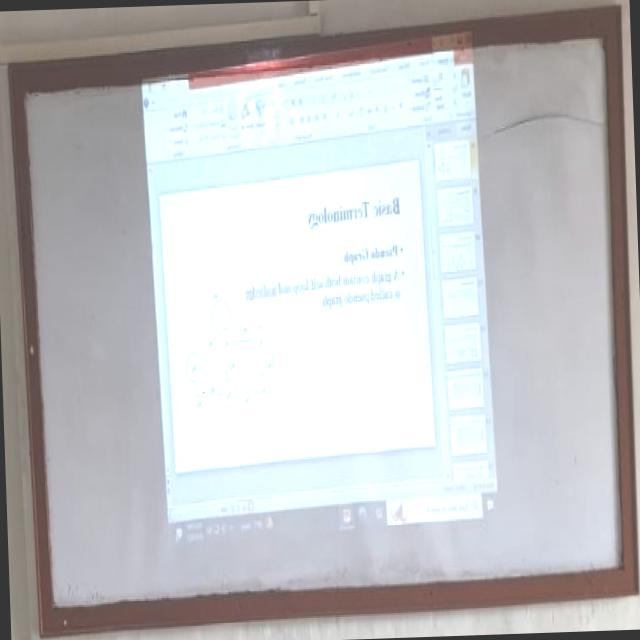Slide: (140, 33, 502, 551)
White-board: (17, 10, 628, 625)
